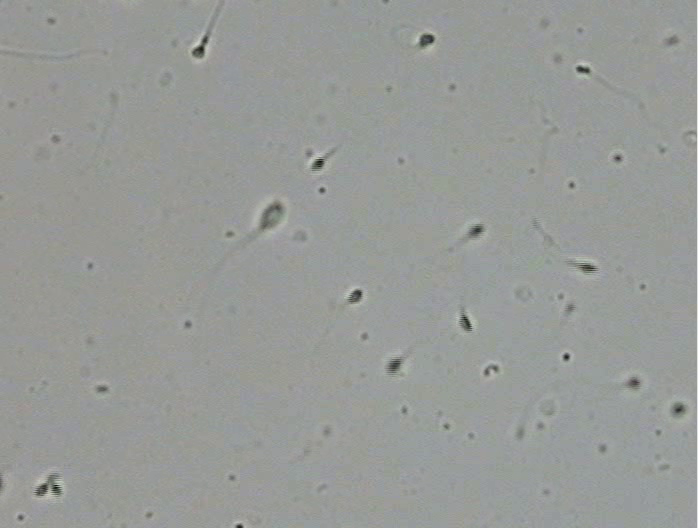S: (259, 201, 285, 230), (577, 261, 598, 275), (385, 358, 401, 376), (458, 313, 473, 332), (33, 482, 50, 498), (468, 224, 485, 239), (310, 157, 325, 172), (348, 289, 363, 303), (419, 34, 435, 47), (50, 482, 63, 497), (192, 45, 205, 59), (575, 65, 591, 75), (672, 403, 685, 415), (626, 378, 640, 388)
